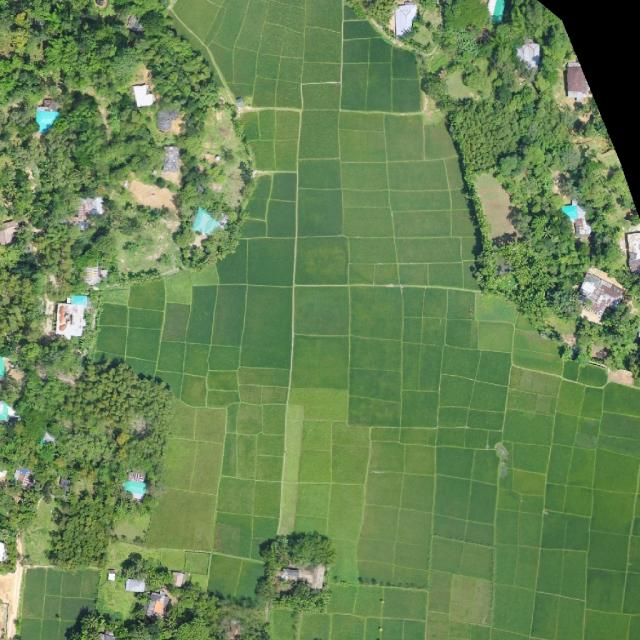agricultural_land: (21, 569, 98, 639), (571, 265, 629, 322), (559, 198, 596, 242), (55, 294, 91, 339), (512, 36, 550, 73), (186, 206, 222, 241), (56, 304, 85, 340), (566, 62, 589, 102), (395, 1, 418, 36), (36, 105, 60, 134), (132, 82, 156, 109), (124, 13, 147, 35), (162, 146, 180, 172), (158, 110, 179, 131)
building: (276, 563, 326, 591), (120, 468, 155, 503), (146, 588, 172, 620), (0, 401, 19, 422), (172, 571, 188, 588), (126, 579, 145, 592), (0, 356, 7, 378), (108, 572, 115, 581)
greenland: (18, 498, 57, 567)
